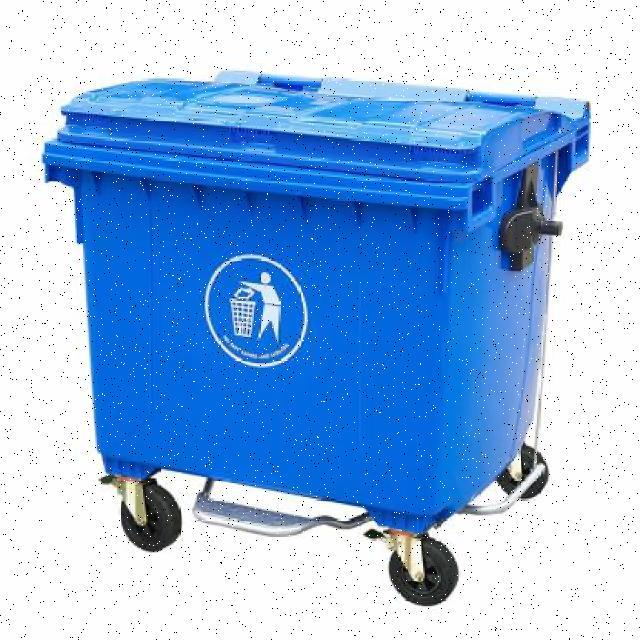garbage container: (30, 60, 615, 625)
